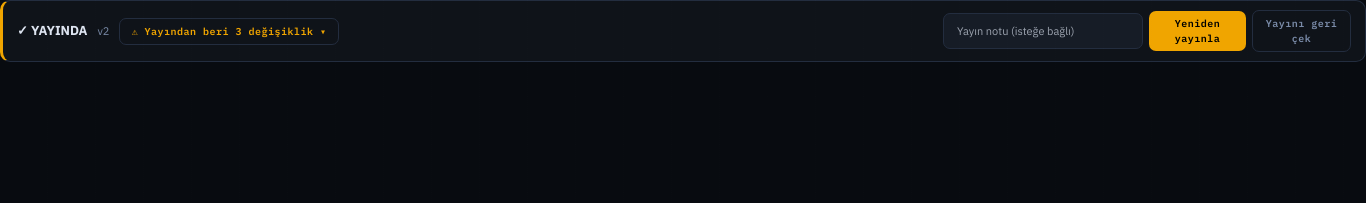
Test case: Yayın durumu şeridi › yayından beri değişiklik varsa uyarır ve satır satır döker
Click the button "⚠ Yayından beri 3 değişiklik ▾" at (229, 31), box [120,18,339,44]
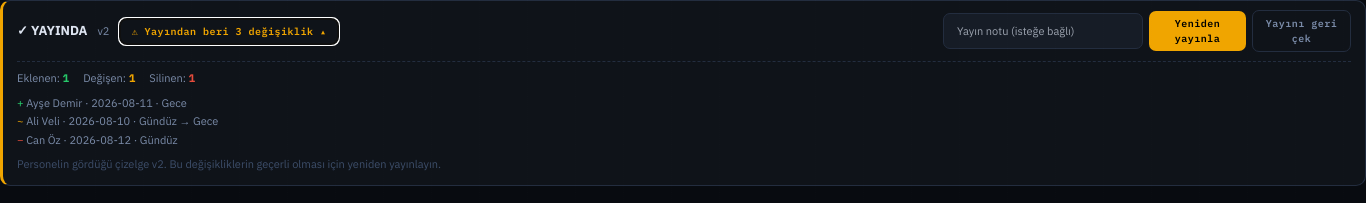
Result: the text "+ Ayşe Demir · 2026-08-11 · Gece" is shown at [17,96,187,110]
Result: the text "~ Ali Veli · 2026-08-10 · Gündüz → Gece" is shown at [17,114,218,128]
Result: the text "− Can Öz · 2026-08-12 · Gündüz" is shown at [17,132,178,146]
